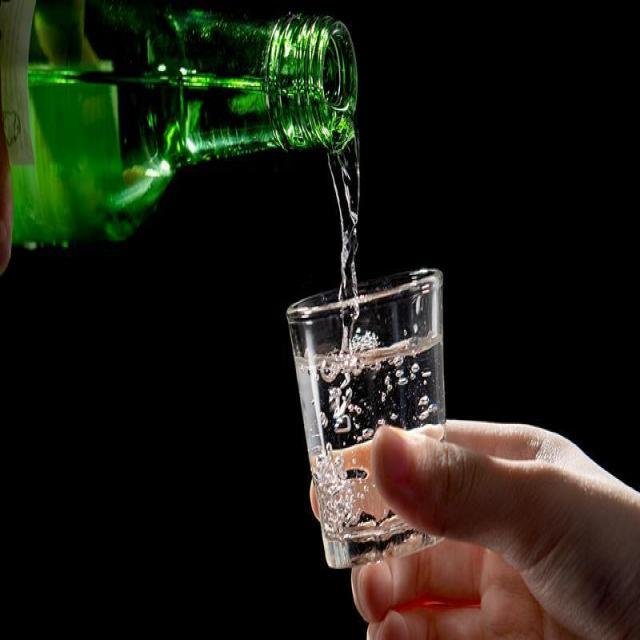soju-bottle: (1, 2, 360, 250)
